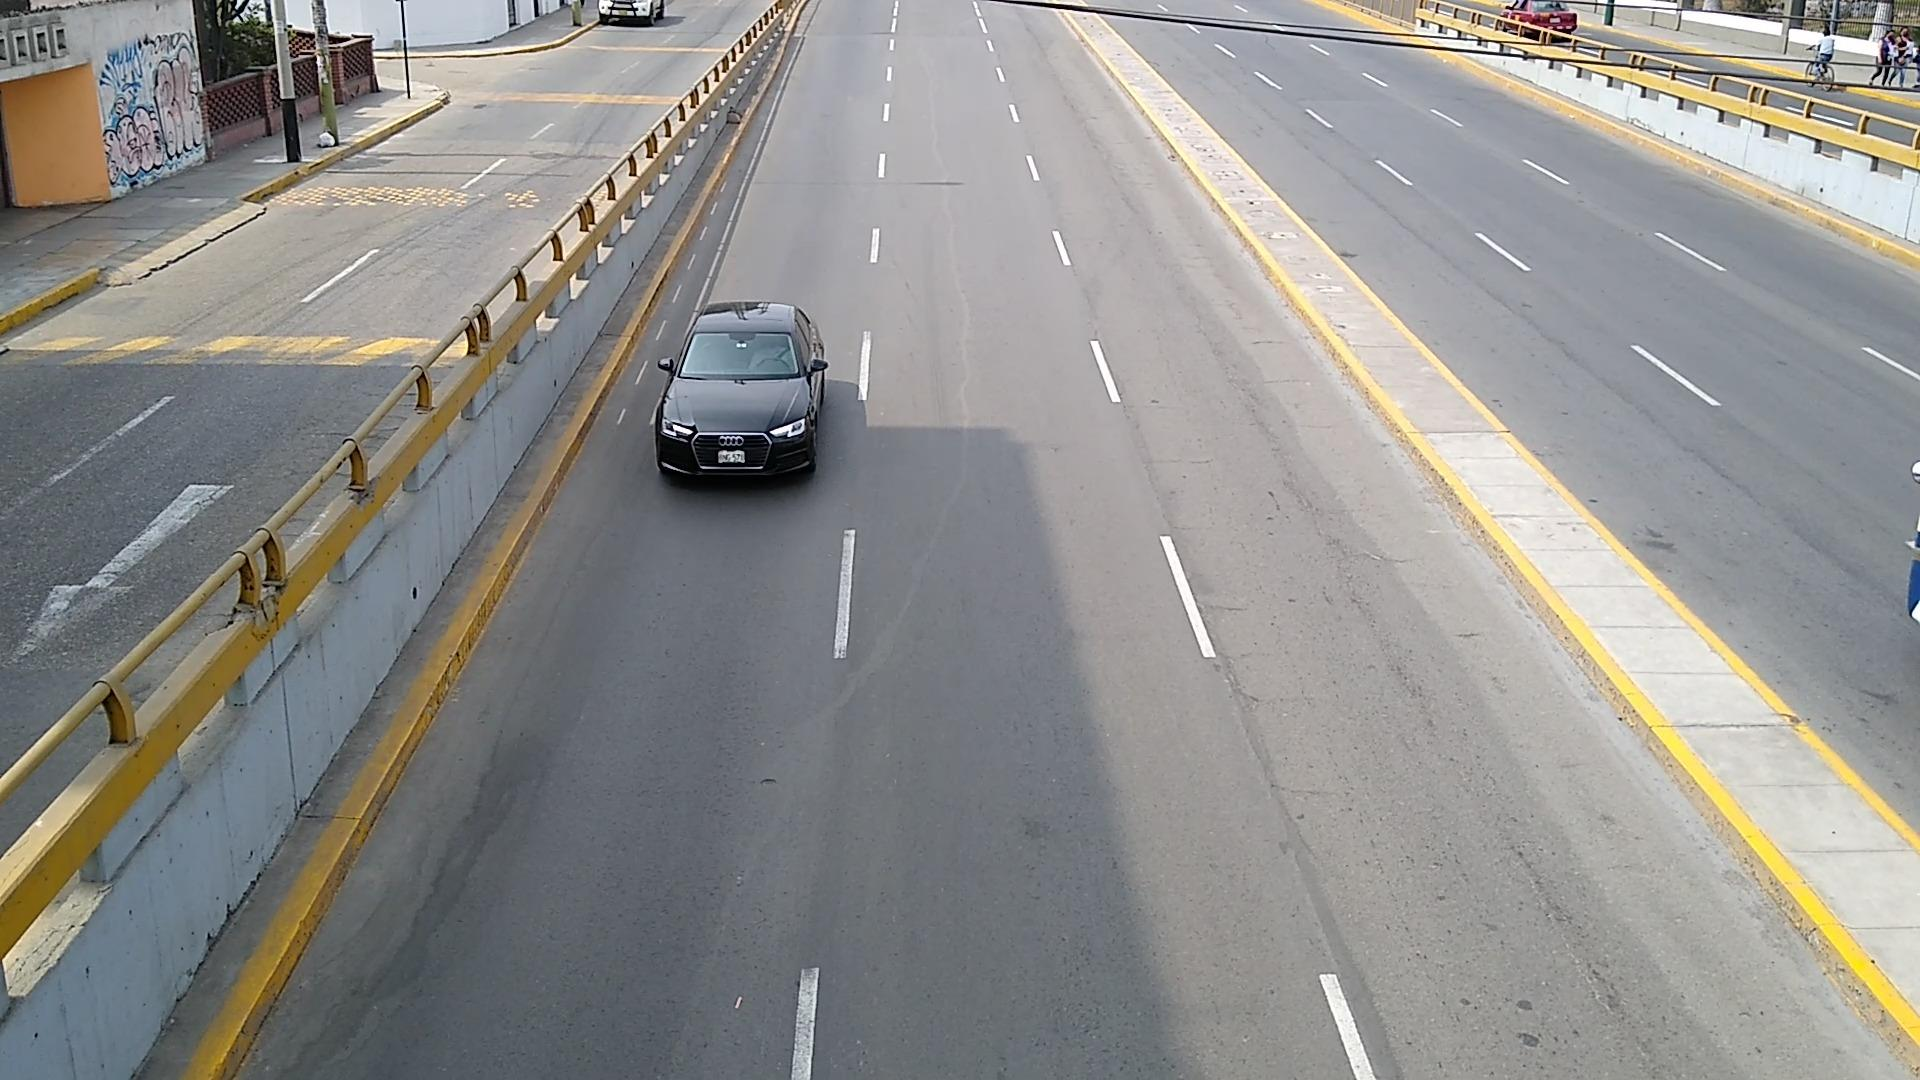car: (653, 301, 825, 476)
